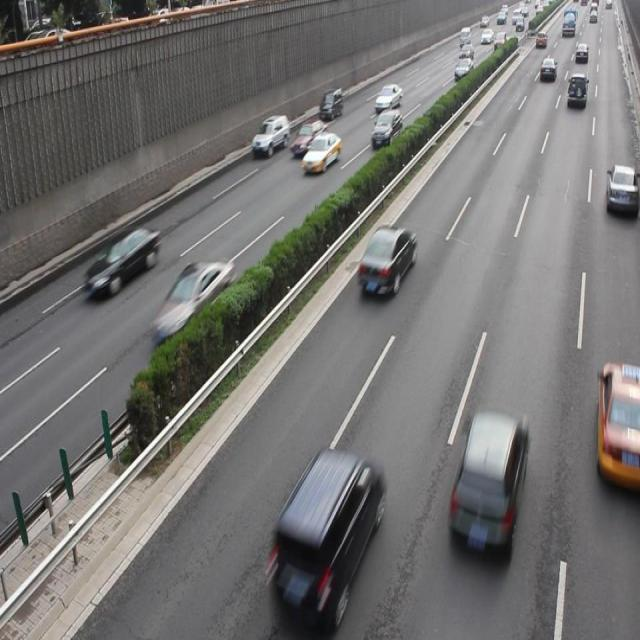car: (448, 408, 525, 550), (151, 259, 234, 344), (594, 358, 640, 489), (84, 224, 161, 297), (358, 224, 415, 296), (604, 162, 640, 217), (300, 131, 341, 174), (251, 114, 289, 155), (370, 109, 402, 147), (291, 120, 325, 155)
truck: (271, 448, 381, 614), (318, 88, 342, 122)
